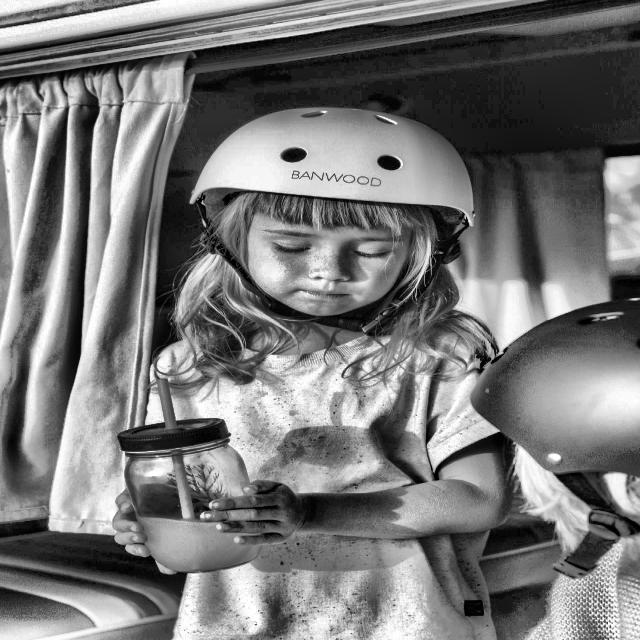Helmet: (171, 95, 491, 361), (463, 276, 640, 576)
